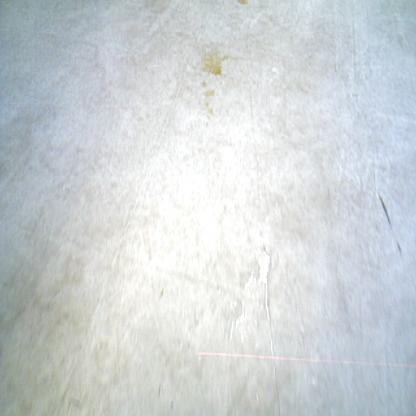liquid: (231, 244, 282, 416), (200, 42, 222, 76), (202, 82, 214, 126), (222, 54, 242, 61), (237, 1, 248, 5)
mark: (376, 190, 402, 256), (156, 380, 162, 400), (159, 288, 165, 300), (170, 398, 174, 411)
